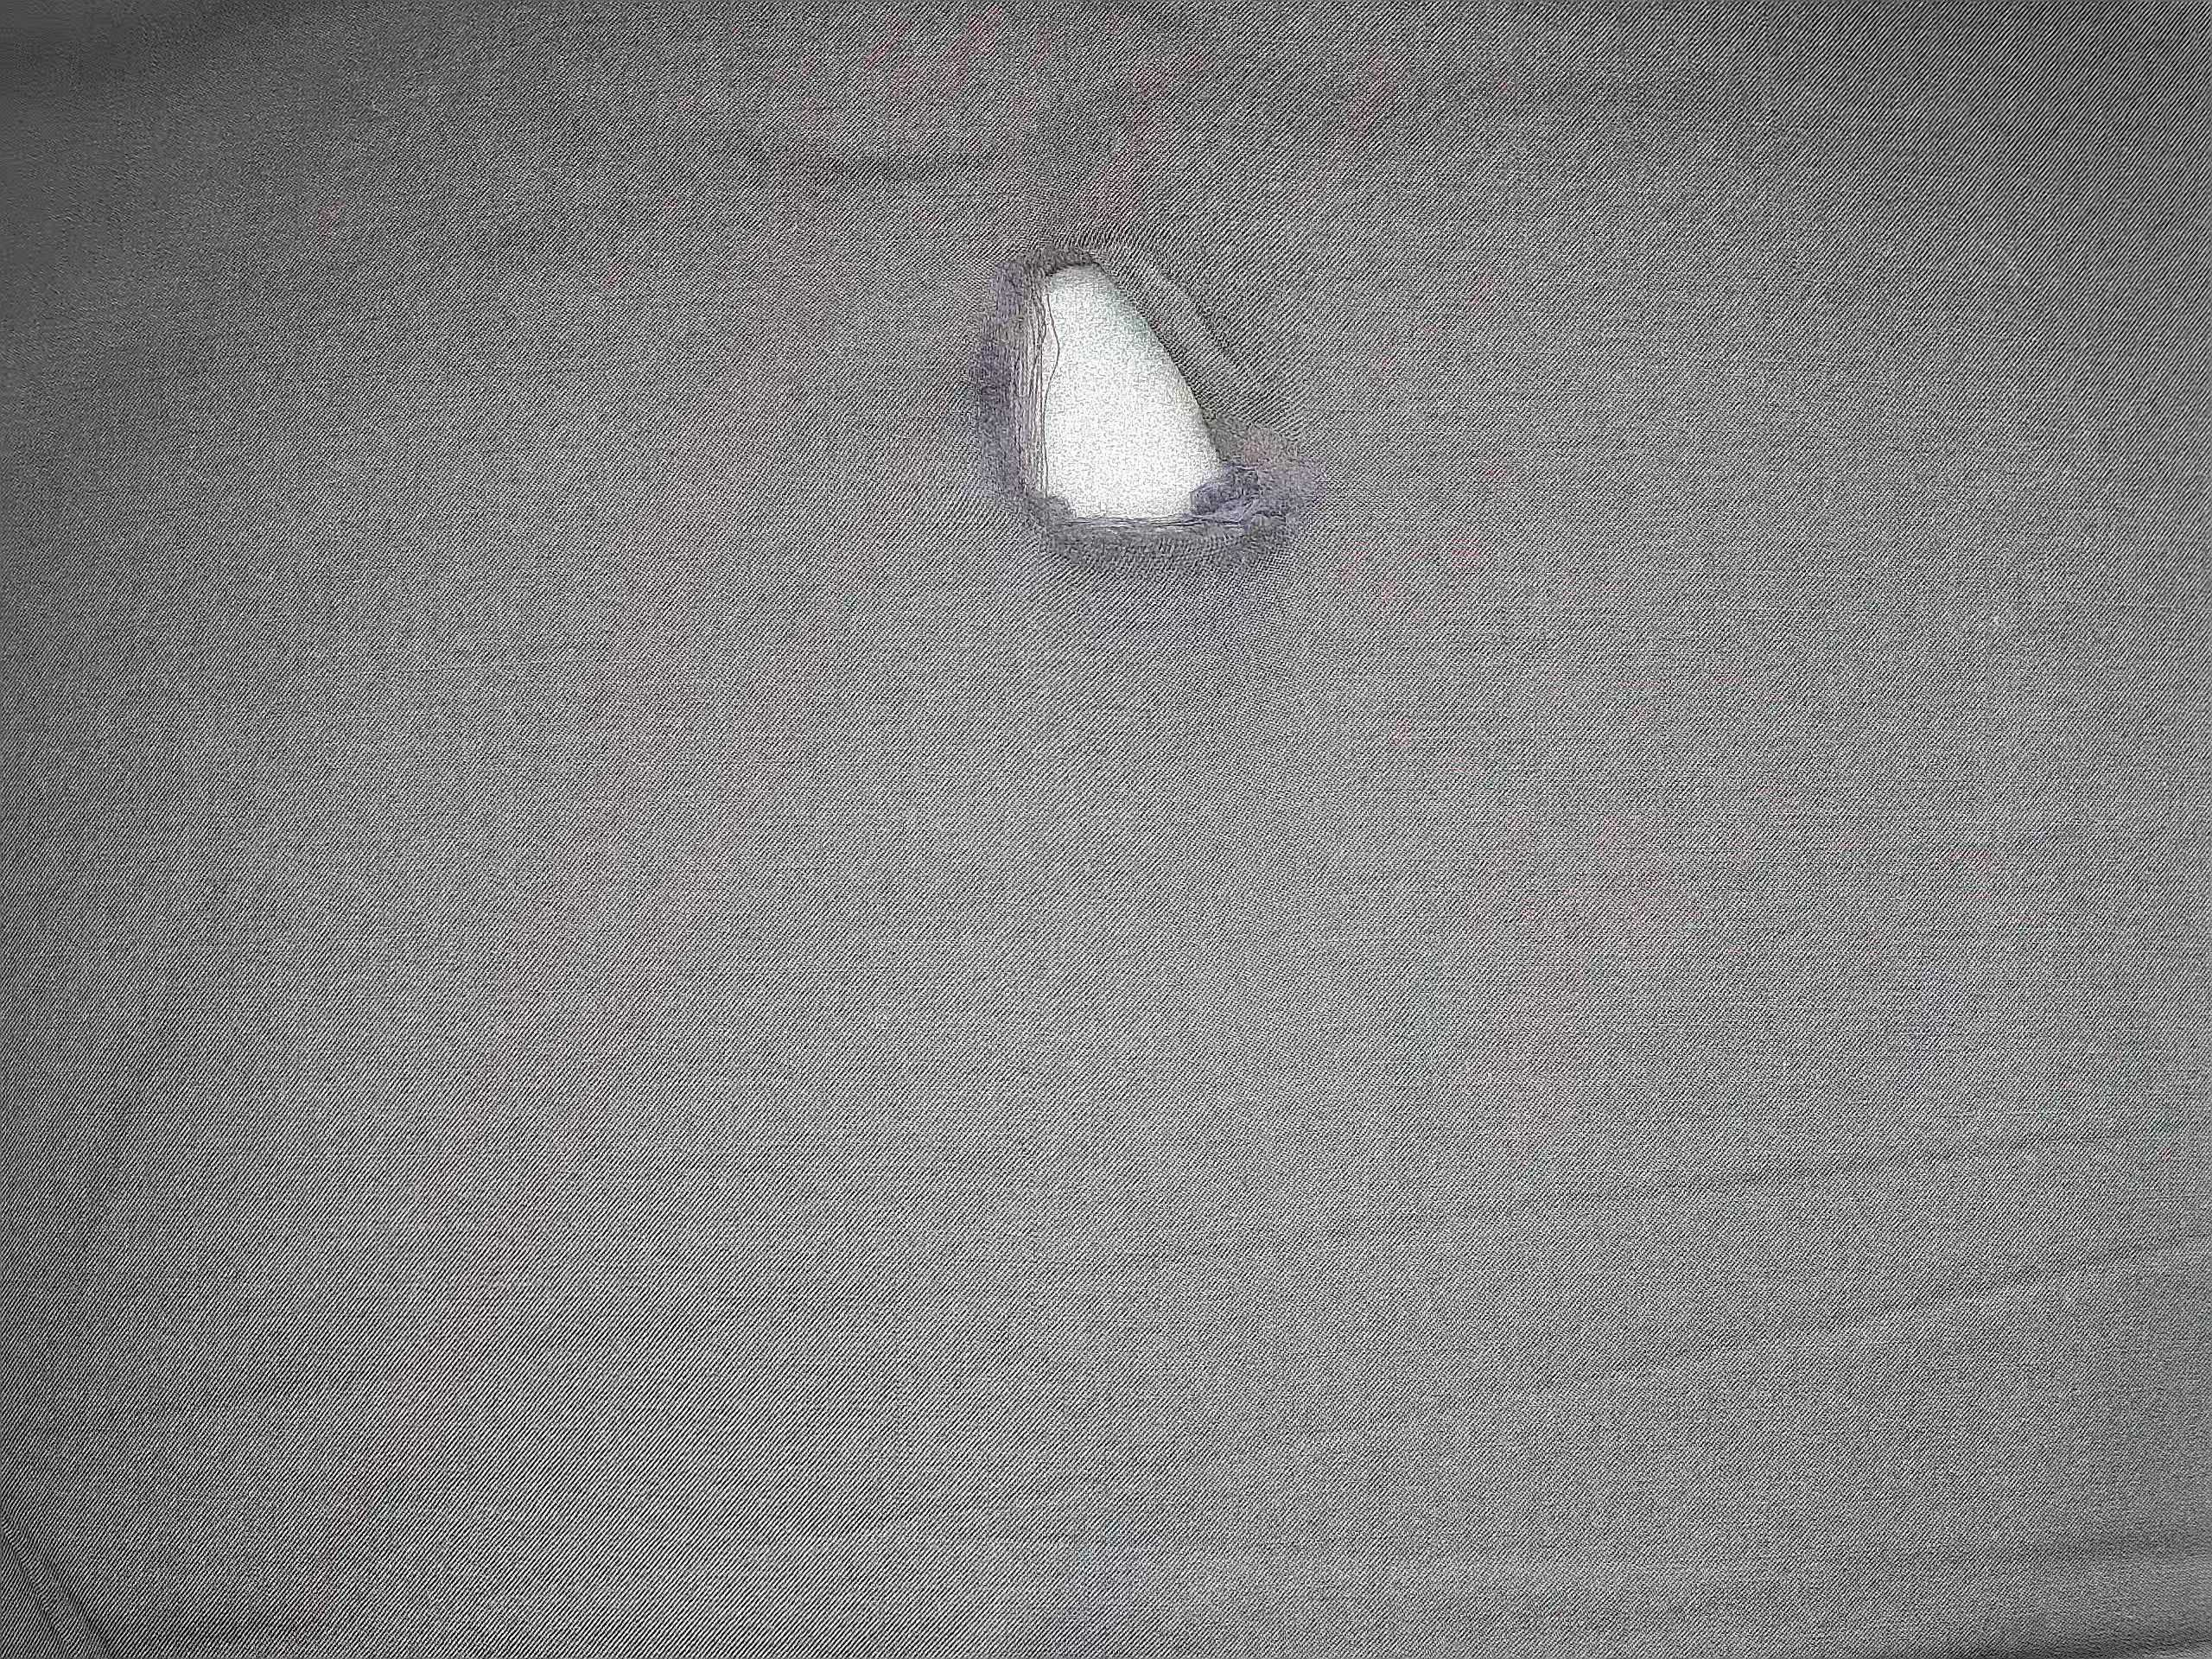puncture-hole: (934, 166, 1366, 619)
